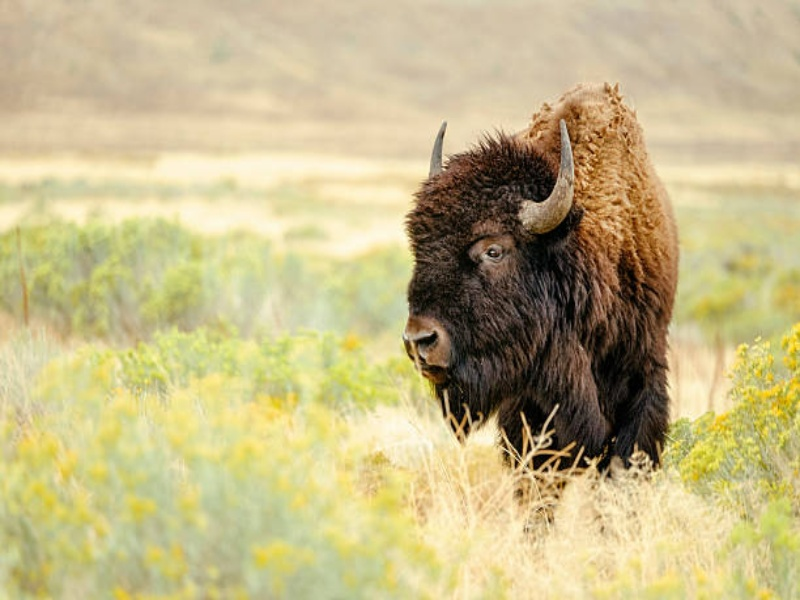buffalo: (399, 81, 678, 479)
